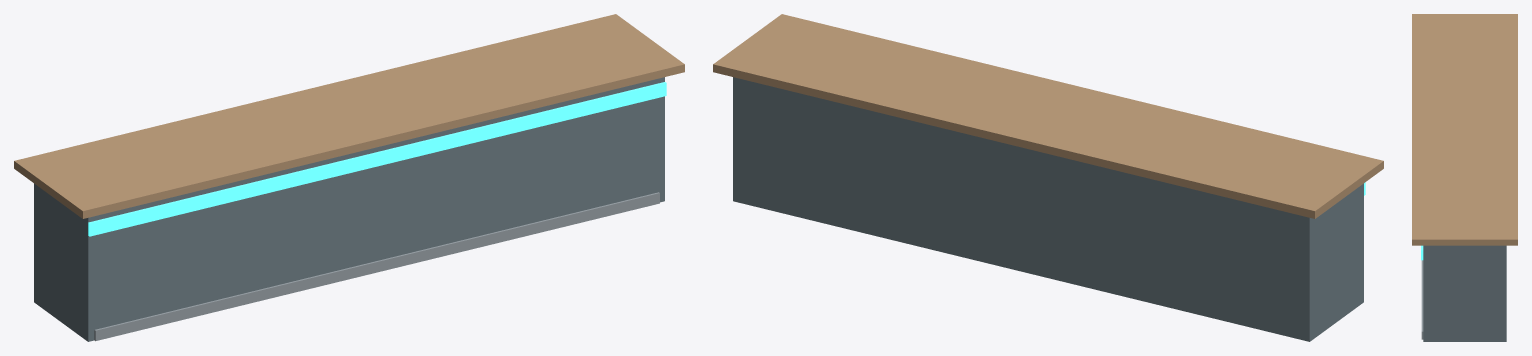
Rendered from prop_balcao.glb.
3 views of the same model, side by side, from view 1: azimuth 30°, elevation 25°; view 2: azimuth 150°, elevation 25°; view 3: azimuth 270°, elevation 25° (orthographic). The views are drawn at different scales.
Visible parts, largest first — view 1: balcao_base, balcao_top, balcao_band, balcao_kick; view 2: balcao_base, balcao_top; view 3: balcao_top, balcao_base, balcao_kick.
Part boxes in pixels (x1,y1,x2,y2): balcao_base: (34,77,664,341); balcao_top: (14,14,684,218); balcao_band: (88,82,666,236); balcao_kick: (94,192,659,341); balcao_base: (733,77,1363,341); balcao_top: (713,14,1383,218); balcao_top: (1412,14,1517,245); balcao_base: (1423,245,1506,341); balcao_kick: (1421,260,1423,339).
Bounding box in the file's own units: 4.8 × 1.06 × 0.95.
